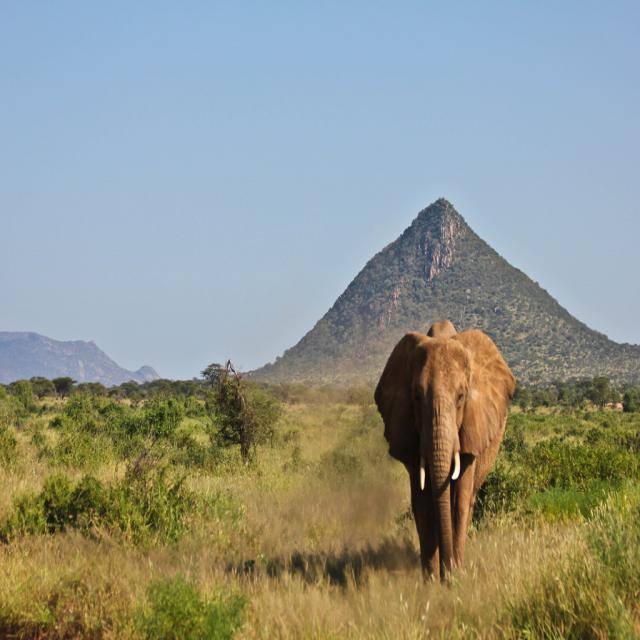elephant: (380, 332, 515, 591)
